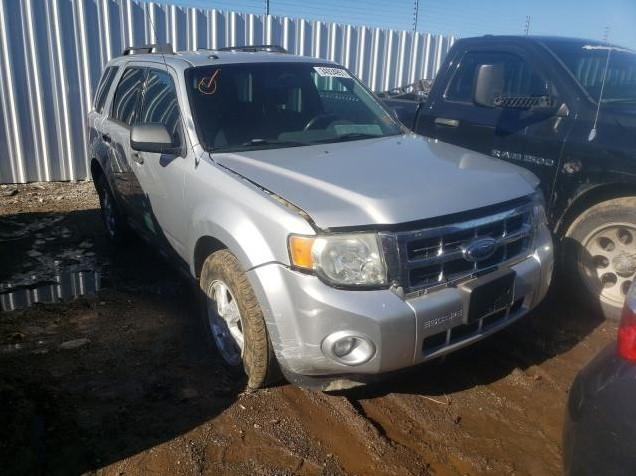Back-door: (99, 64, 148, 238)
Back-window: (113, 67, 148, 126), (94, 66, 119, 116)
Fender: (183, 144, 319, 275)
Front-bumper: (246, 240, 554, 376)
Front-door: (131, 65, 187, 263)
Front-wheel: (198, 250, 275, 389)
Front-window: (141, 68, 186, 153)
Grille: (376, 204, 535, 295)
Headlight: (287, 233, 389, 290), (534, 206, 550, 246)
Hood: (210, 132, 541, 228)
Mirror: (130, 123, 179, 154)
Quarter-panel: (86, 110, 105, 175)
Roof: (134, 51, 335, 67)
Windshield: (184, 62, 410, 154)
